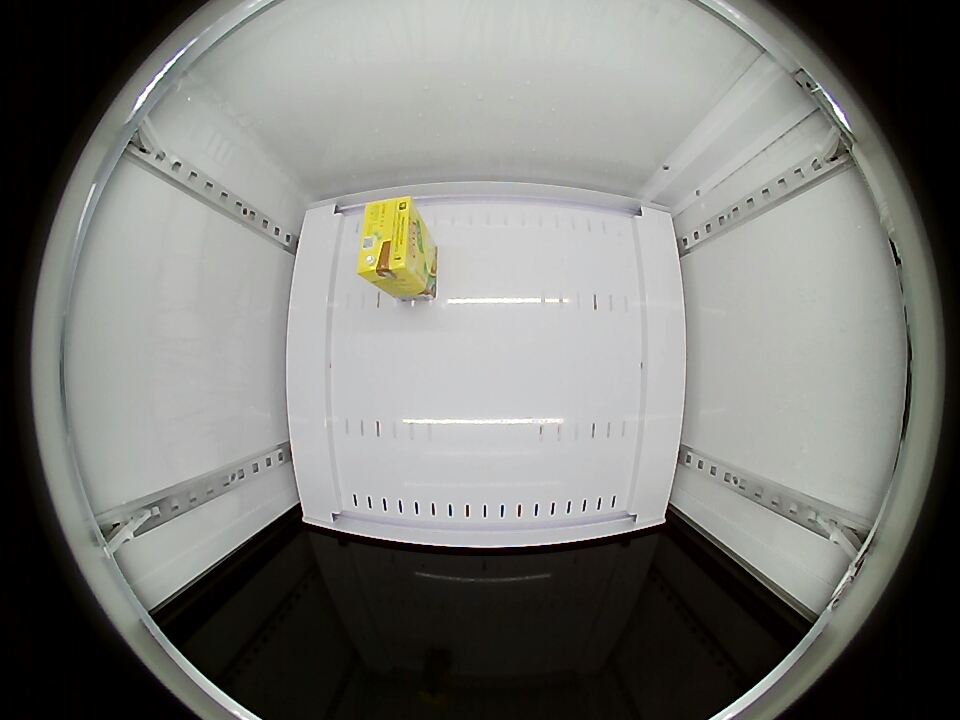weitaningmeng: (357, 197, 426, 287)
